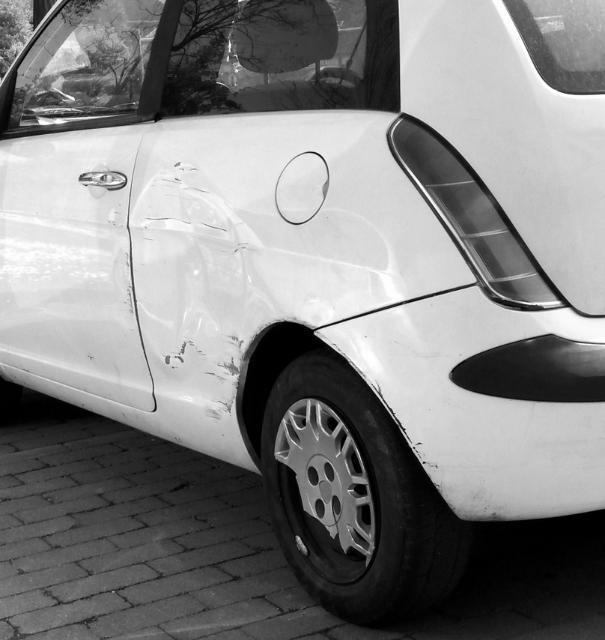Door: (132, 125, 312, 425)
